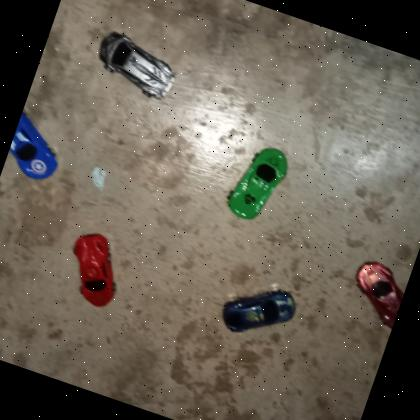Car: (85, 24, 189, 107), (212, 270, 302, 352), (218, 136, 294, 232), (54, 225, 135, 314)
